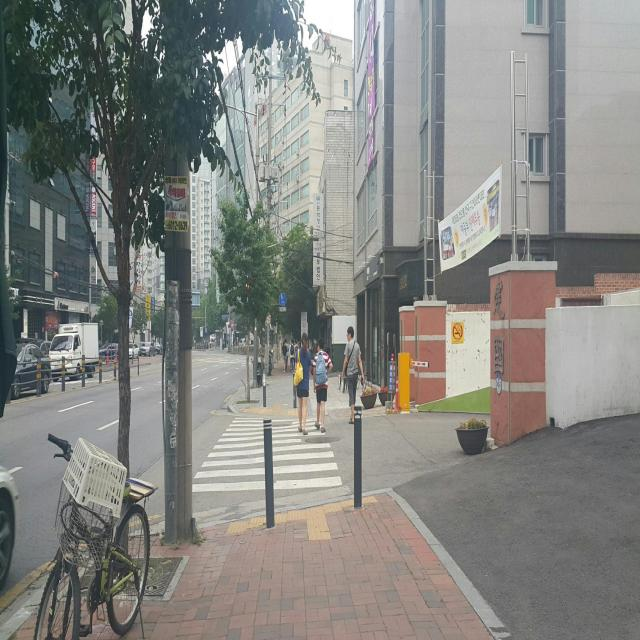횡단보도: (190, 415, 344, 494)
